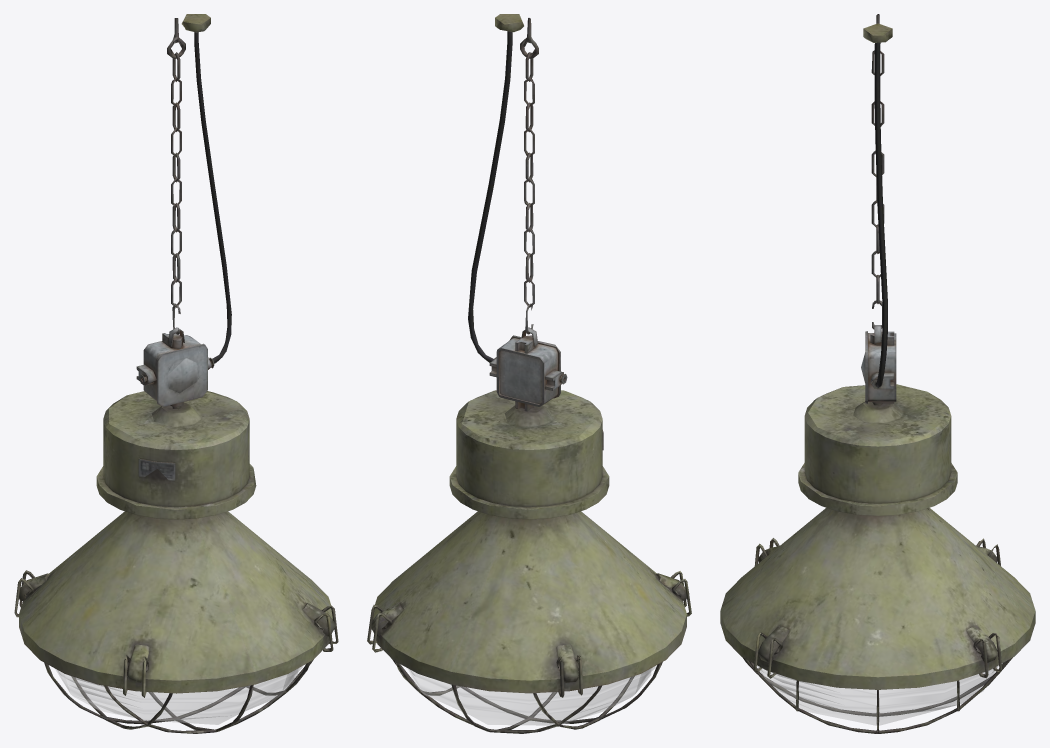
Rendered from ph2_hanging_industrial_lamp.glb.
3 renders of one model, left to right at view 1: azimuth 30°, elevation 25°; view 2: azimuth 150°, elevation 25°; view 3: azimuth 270°, elevation 25°, orthographic.
Size of the model in its own units: 0.5496 by 1.35 by 0.5496.
Materials: 2 (1 with a texture image).
